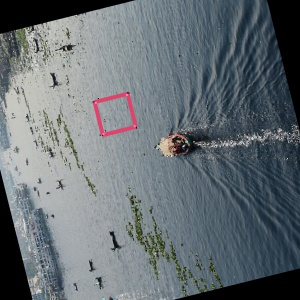square: (90, 90, 141, 138)
